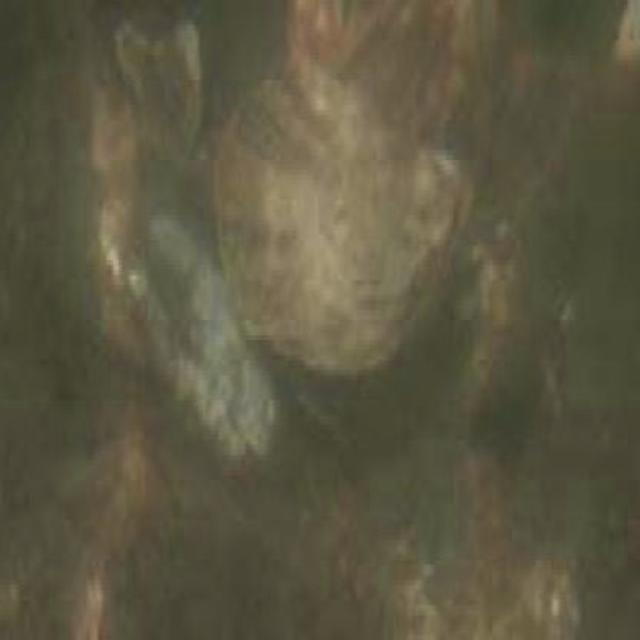Oyster-Closed: (219, 38, 473, 358), (134, 208, 278, 469), (290, 0, 496, 148)
